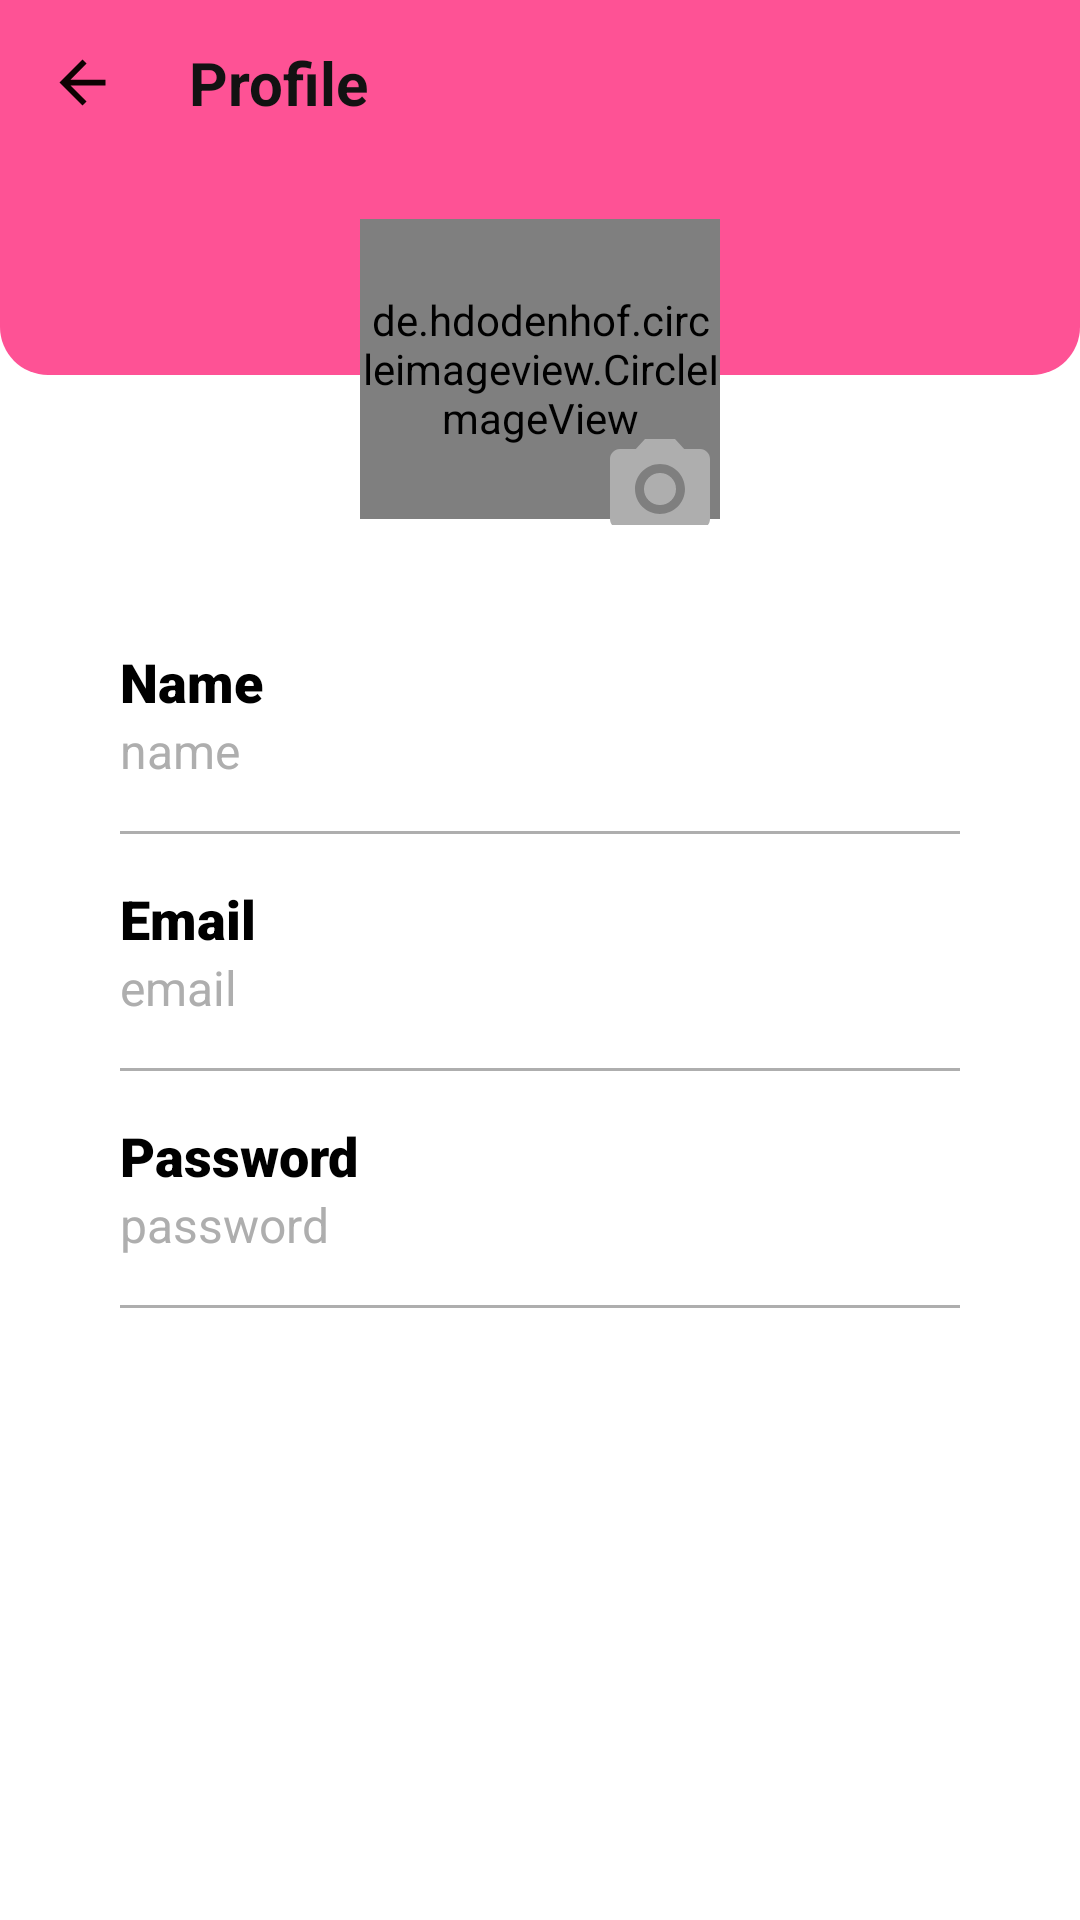

Locate icon controls on the screen. Image size 1080x1920, boxes as box=[x1, y1, x2, y2].
arrow back: box=[59, 59, 106, 106]
